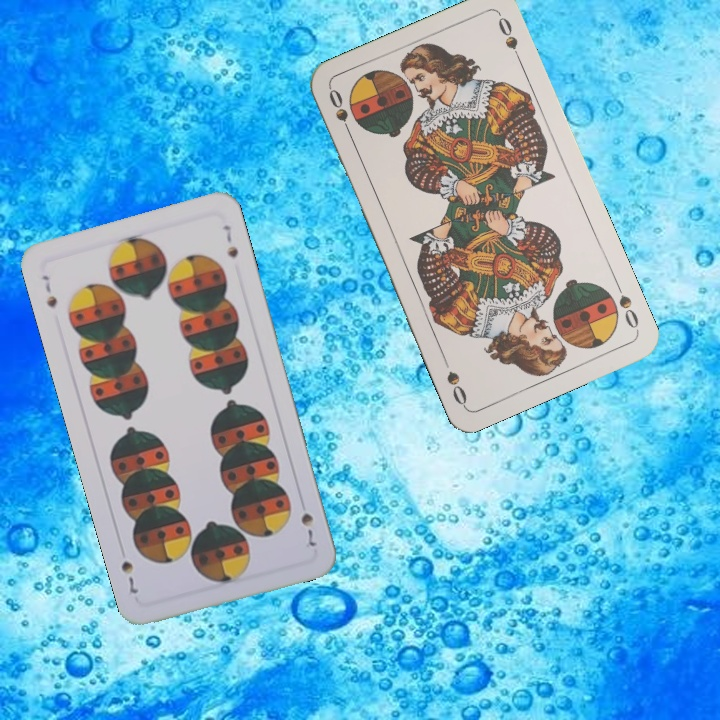S7: (37, 271, 60, 311), (297, 508, 318, 550)
SO: (324, 84, 356, 141), (611, 277, 642, 334)
